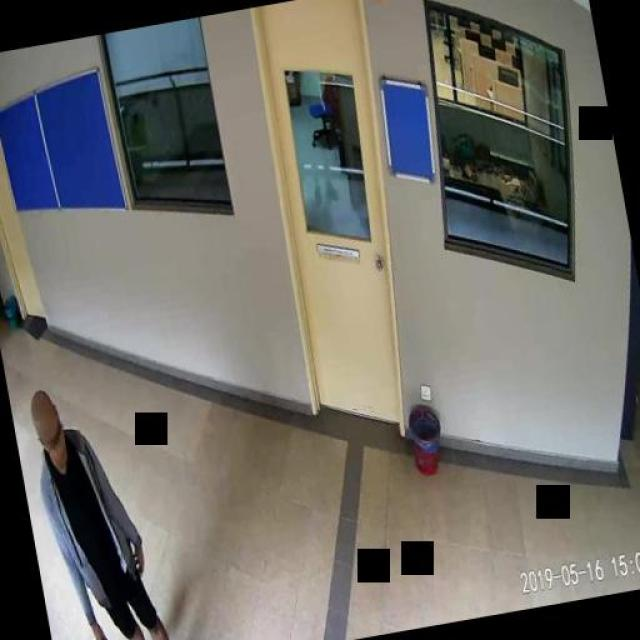gun: (94, 626, 134, 640)
